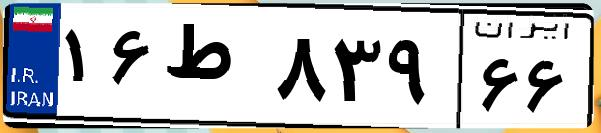1: (57, 26, 110, 100)
3: (330, 28, 385, 110)
6: (475, 38, 525, 113), (525, 38, 570, 115), (110, 28, 158, 98)
8: (270, 28, 330, 110)
9: (385, 28, 445, 110)
ط: (158, 20, 270, 120)
